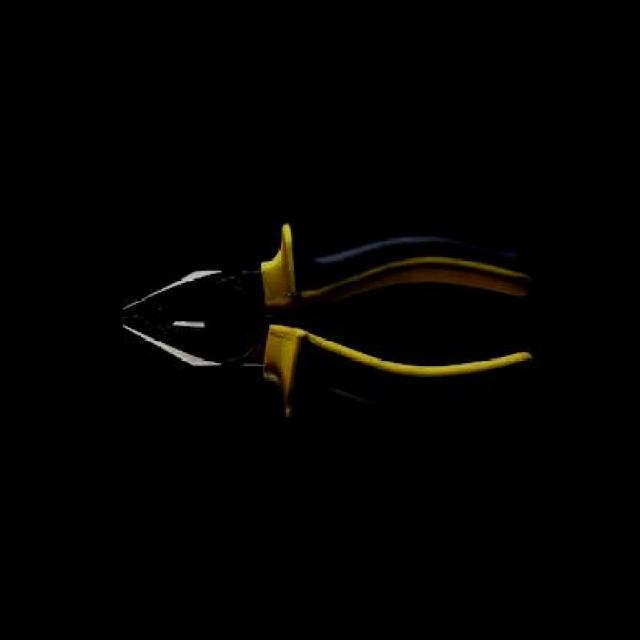pliers: (118, 212, 532, 434)
